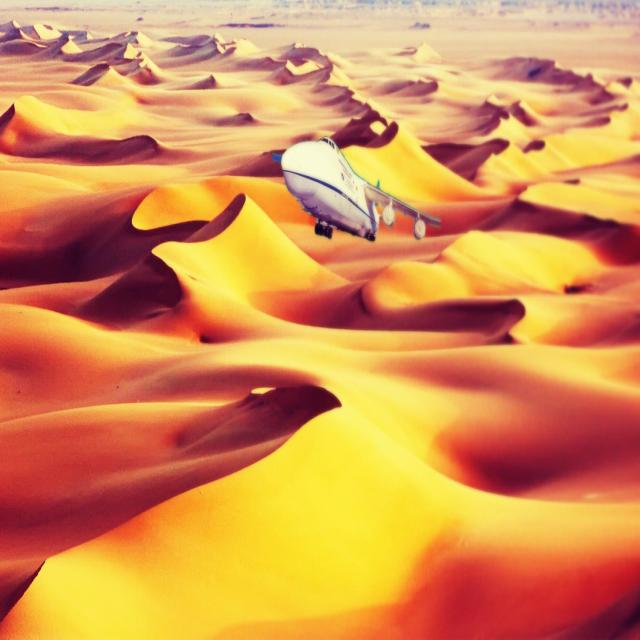airplane: (273, 134, 442, 242)
